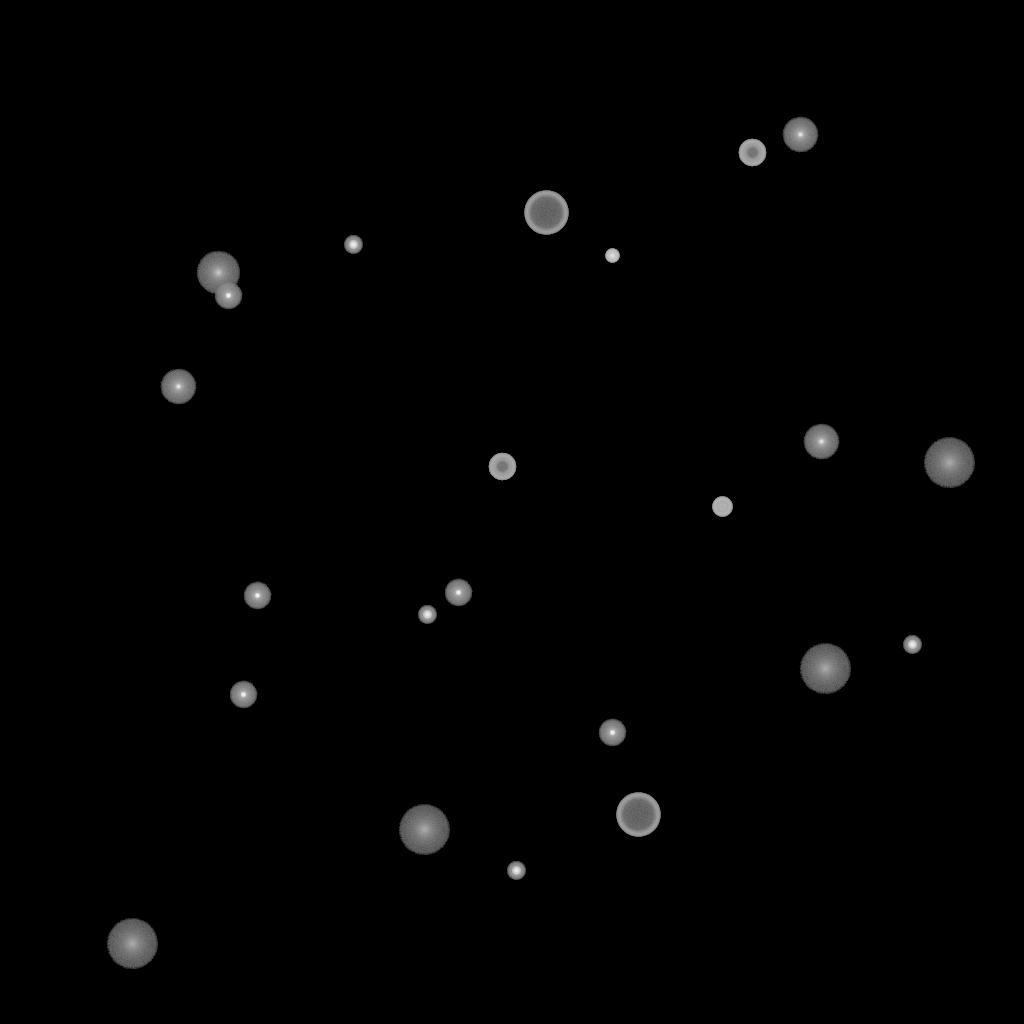depth:-10: (214, 282, 242, 310), (243, 582, 271, 610), (229, 681, 257, 709), (598, 719, 626, 747), (444, 579, 472, 607)
depth:-20: (903, 636, 921, 654), (418, 606, 436, 624), (507, 862, 525, 880), (344, 236, 362, 254)
depth:-30: (605, 249, 619, 263)
depth:-40: (712, 497, 732, 517)
depth:-50: (738, 139, 766, 167), (488, 453, 516, 481)
depth:-70: (524, 191, 568, 235), (616, 793, 660, 837)
depth:0: (160, 369, 196, 405), (782, 117, 818, 153), (803, 424, 839, 460)
depth:10: (196, 251, 240, 295)
depth:20: (106, 919, 158, 969), (799, 644, 851, 694), (923, 438, 975, 488), (398, 805, 450, 855)
